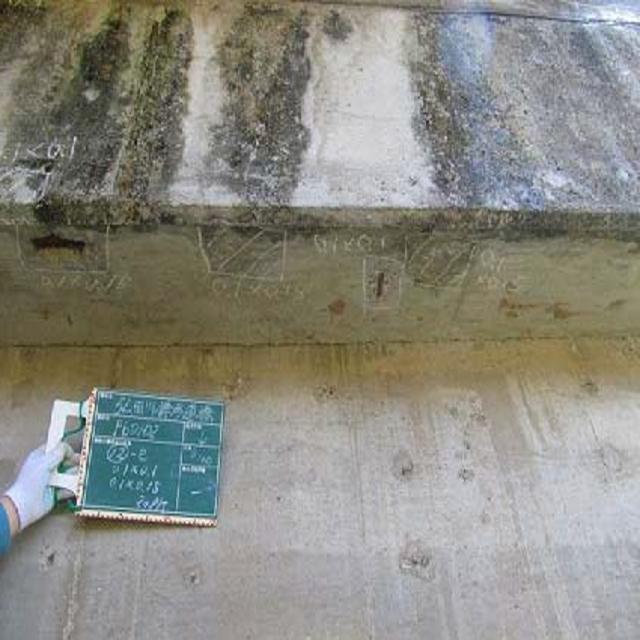spalling: (27, 207, 129, 284), (350, 240, 404, 317)
